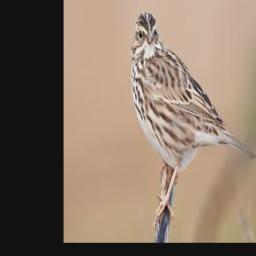Sparrow: (131, 11, 256, 231)
